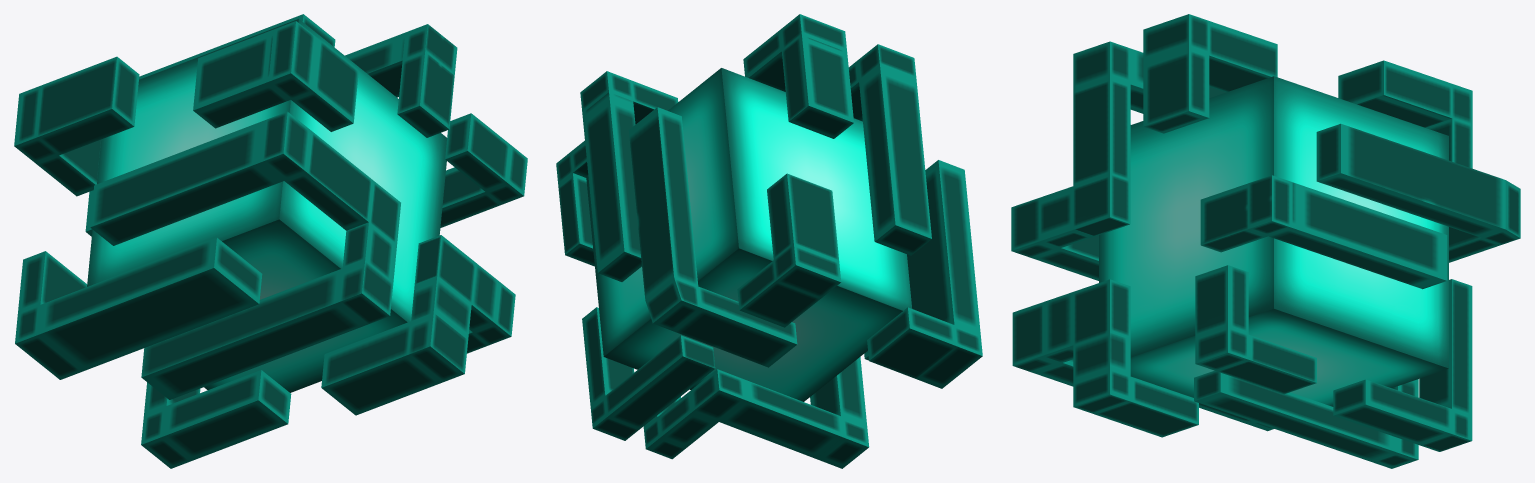
The model's file is crystal.dae.
3 renders of one model, left to right at view 1: azimuth 30°, elevation 25°; view 2: azimuth 150°, elevation 25°; view 3: azimuth 270°, elevation 25°, orthographic. The views are drawn at different scales.
Visible parts, largest first — view 1: Crystal14; view 2: Crystal14; view 3: Crystal14.
Boxes of the visible parts, x1,y1,x2,y2 form: Crystal14: (14,14,527,468); Crystal14: (556,14,982,468); Crystal14: (1011,14,1520,468).
Size of the model in its own units: 0.2824 by 0.2504 by 0.2492.
